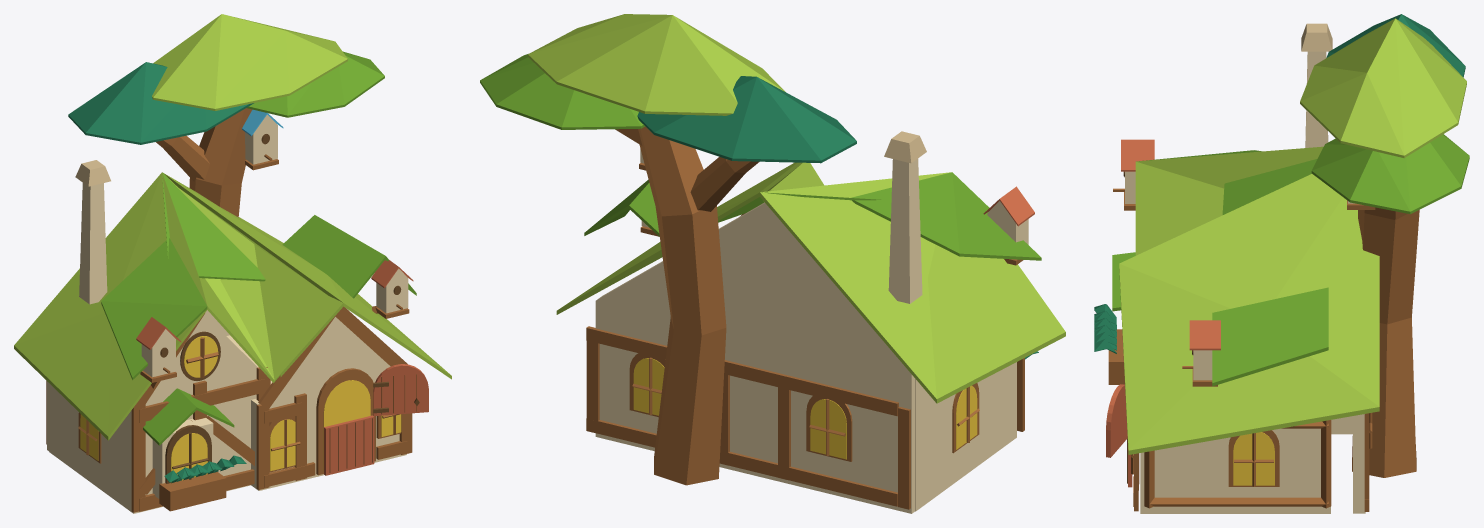
Rendered from building.glb.
The picture shows the model from 3 angles, left to right: view 1: azimuth 30°, elevation 25°; view 2: azimuth 150°, elevation 25°; view 3: azimuth 270°, elevation 25°; orthographic projection. The views are drawn at different scales.
Parts seen in each view (by area): view 1: Building_Cottage_FoldedRoof, Building_Cottage_Joinery, Building_Cottage_OldTree, Building_Cottage_Volumes; view 2: Building_Cottage_OldTree, Building_Cottage_Volumes, Building_Cottage_FoldedRoof, Building_Cottage_Joinery; view 3: Building_Cottage_FoldedRoof, Building_Cottage_OldTree, Building_Cottage_Joinery, Building_Cottage_Volumes.
Part boxes in pixels (<box>): Building_Cottage_FoldedRoof: <box>14,172,451,440</box>; Building_Cottage_Joinery: <box>46,109,428,512</box>; Building_Cottage_OldTree: <box>68,14,384,217</box>; Building_Cottage_Volumes: <box>47,160,406,513</box>; Building_Cottage_OldTree: <box>480,14,856,485</box>; Building_Cottage_Volumes: <box>595,131,1016,513</box>; Building_Cottage_FoldedRoof: <box>556,162,1065,403</box>; Building_Cottage_Joinery: <box>586,149,1038,509</box>; Building_Cottage_FoldedRoof: <box>1119,146,1379,454</box>; Building_Cottage_OldTree: <box>1300,14,1469,477</box>; Building_Cottage_Joinery: <box>1094,139,1375,511</box>; Building_Cottage_Volumes: <box>1140,23,1365,513</box>.
Bounding box in the file's own units: 1.24 × 1.21 × 0.9046.
